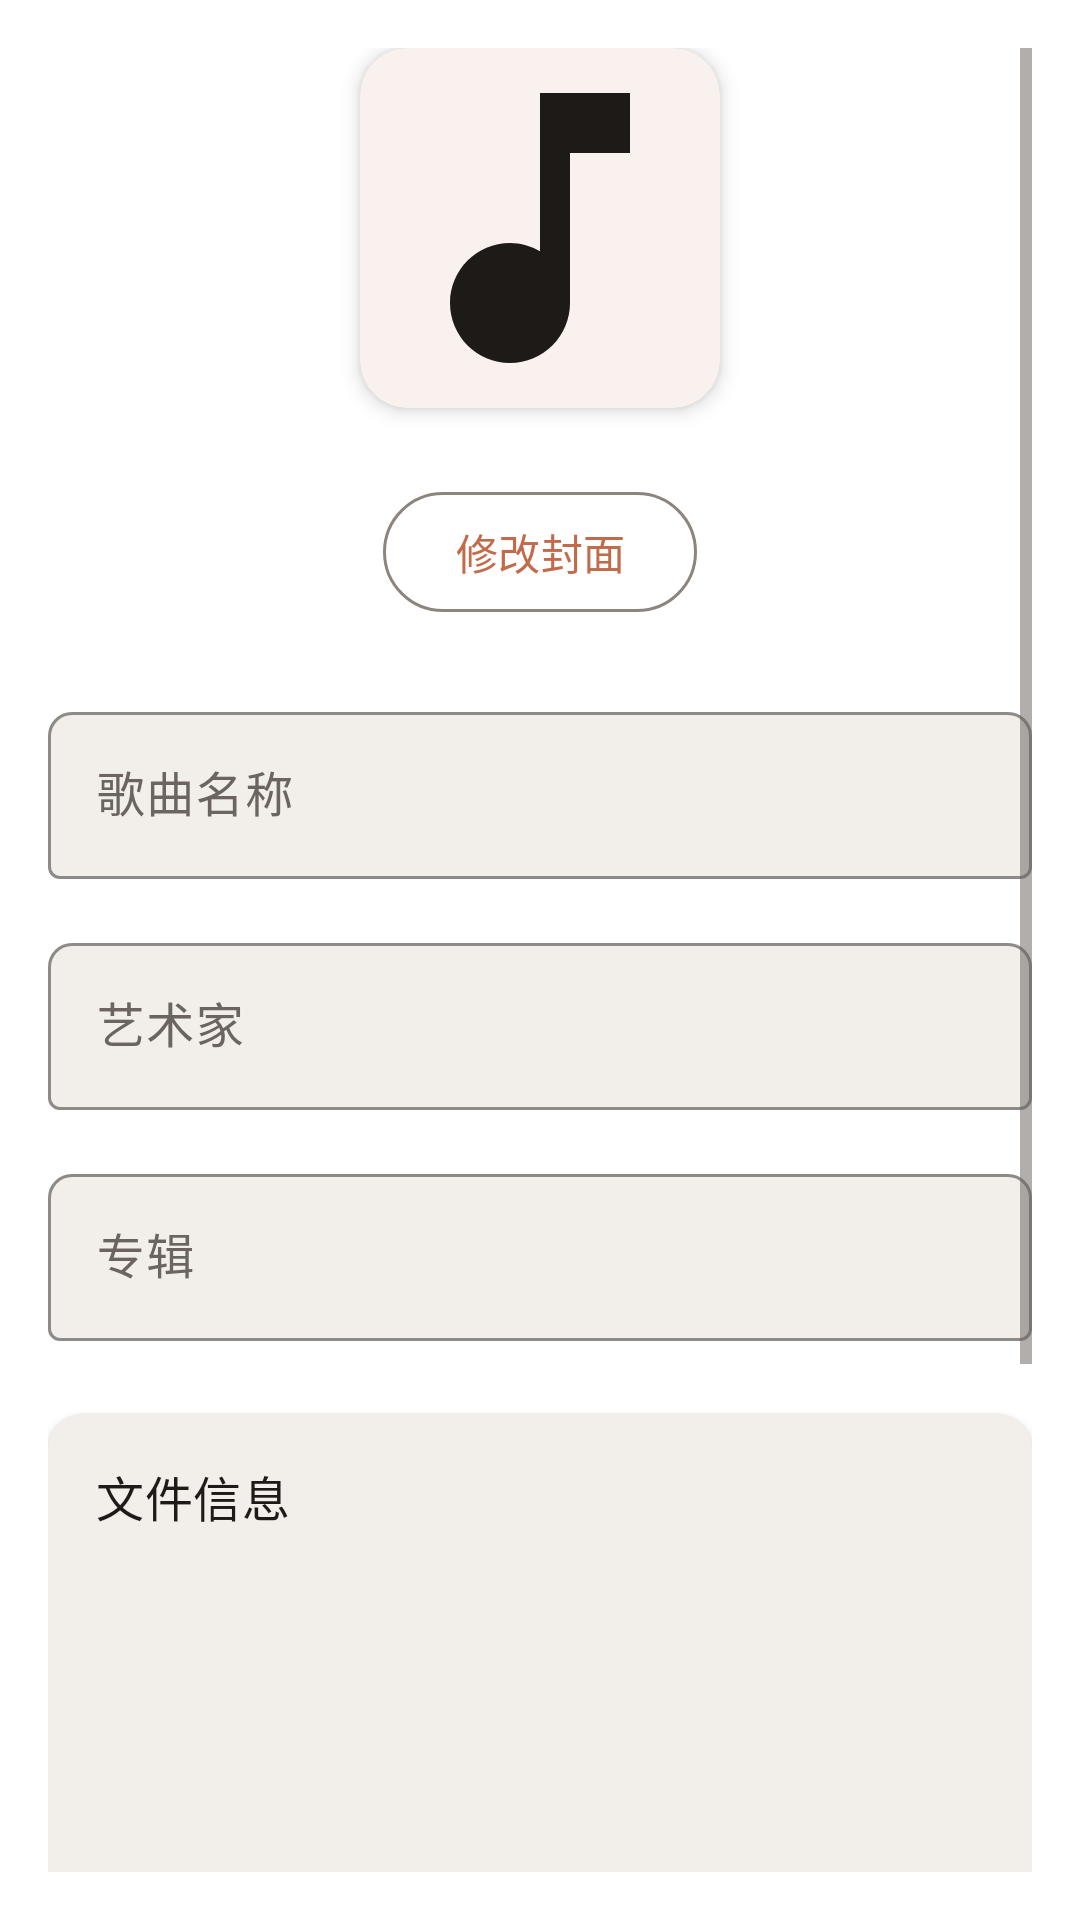

Where icons sit on this 1080x1920 app screen, as (x1, y1, x2, y2):
music note: (360, 48, 720, 408)
